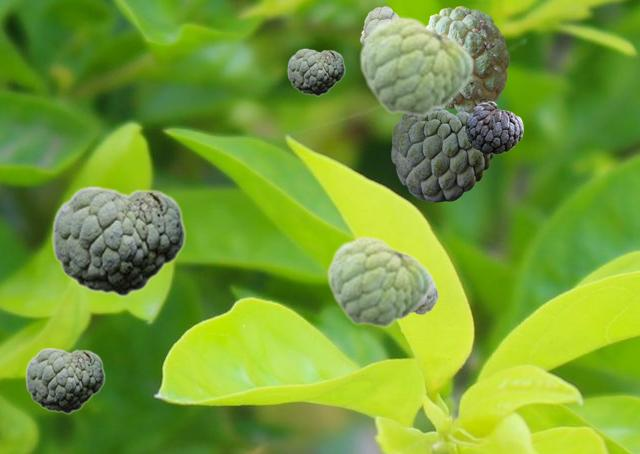atis: (51, 185, 185, 296), (358, 15, 473, 117), (326, 235, 431, 328), (391, 109, 493, 201), (428, 6, 508, 112), (25, 347, 104, 413), (465, 101, 522, 153), (287, 48, 344, 95), (360, 6, 397, 43), (415, 276, 437, 313)
